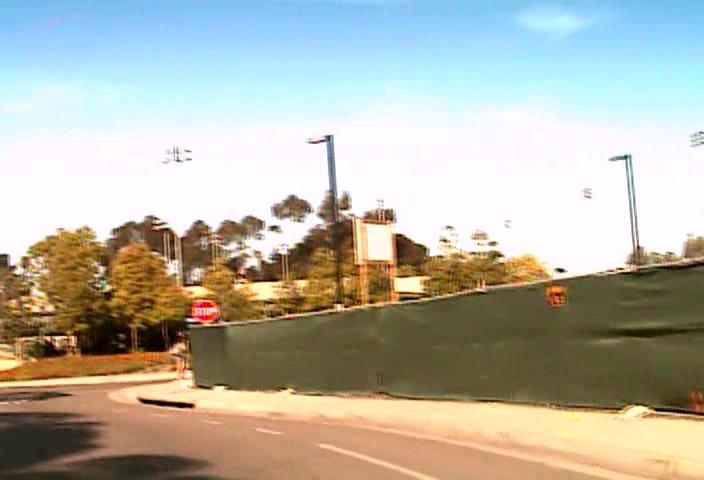stop: (192, 299, 219, 324)
